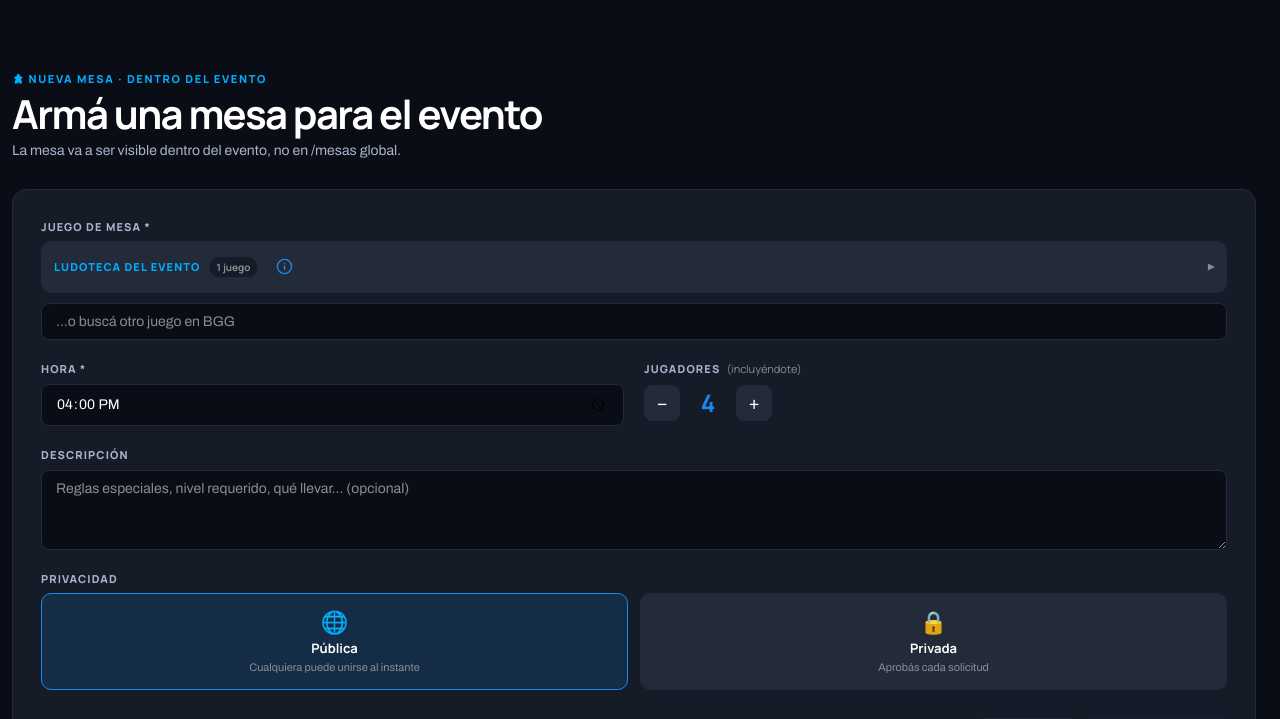
Test: <CreateTable> — Ludoteca picker (?evento=) › muestra el hint de la ludoteca como tooltip de un icono de info, sin toggle-ar el acordeón al clickearlo
Click the button named "cómo usar la ludoteca": coordinates (284, 267) [272,255,296,279]
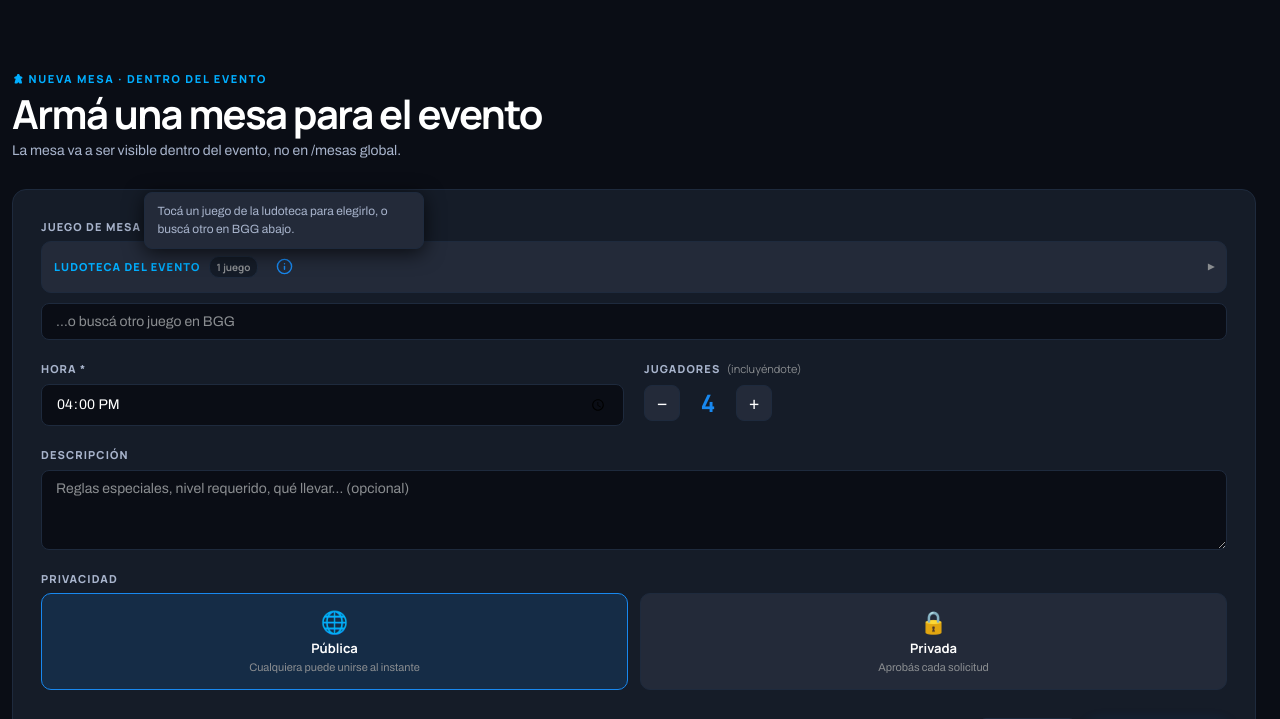
Check: the tooltip reads "Tocá un juego de la ludoteca para elegirlo, o buscá otro en BGG abajo.", box [157,204,388,236]
